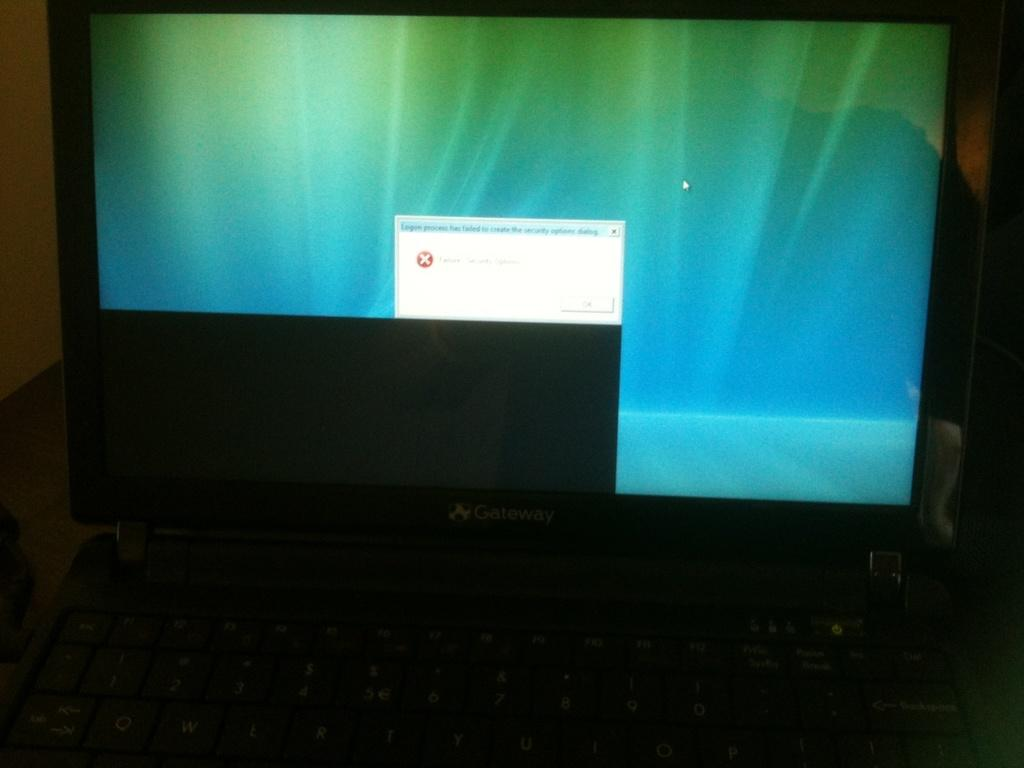Computer-keyboard: (3, 593, 973, 767)
Laptop: (0, 0, 1006, 767)
